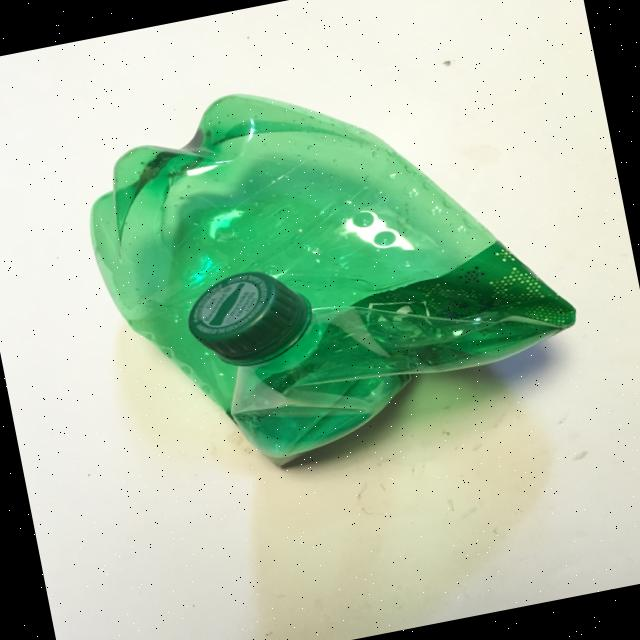plastic: (68, 37, 594, 490)
